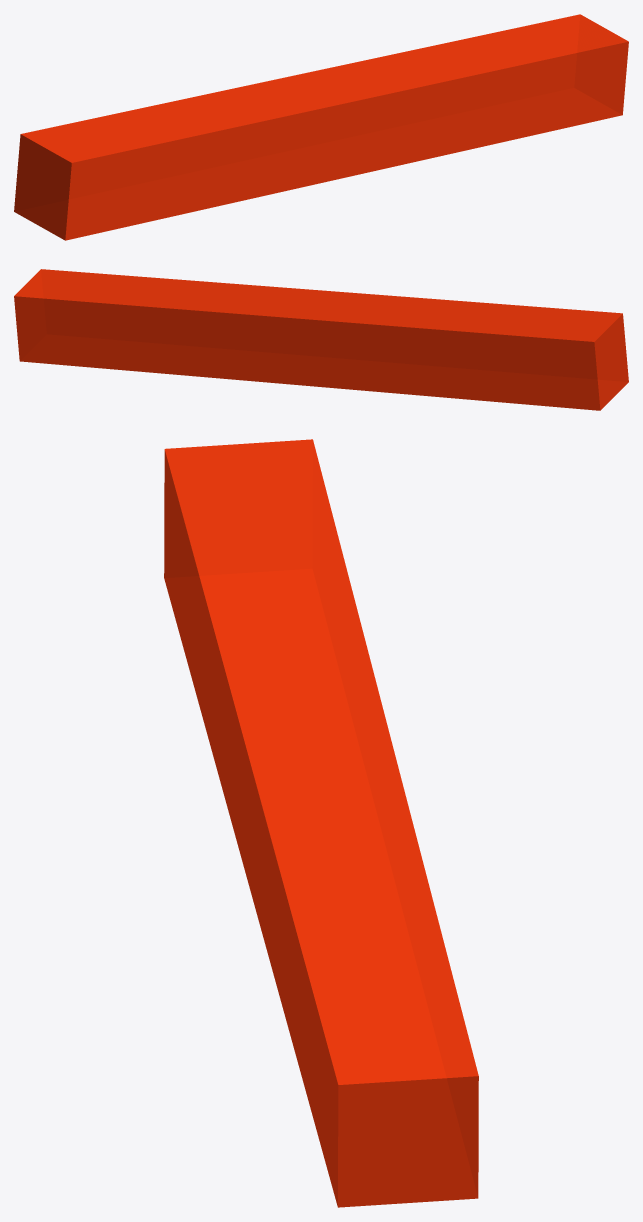
Rendered from Event_421127236_EErechit_7.fbx.
The picture shows the model from 3 angles, top to bottom: view 1: azimuth 30°, elevation 25°; view 2: azimuth 150°, elevation 25°; view 3: azimuth 270°, elevation 25°; orthographic projection. The views are drawn at different scales.
Parts seen in each view (by area): view 1: Model; view 2: Model; view 3: Model.
Boxes of the visible parts, left/top/right/bottom form: Model: left=14, top=14, right=628, bottom=240; Model: left=14, top=269, right=628, bottom=410; Model: left=164, top=439, right=478, bottom=1207.
Size of the model in its own units: 0.6537 by 0.1355 by 0.1611.
